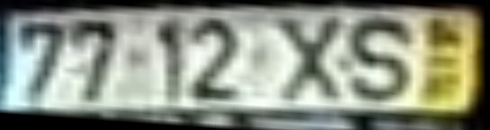1: (150, 17, 188, 106)
2: (189, 20, 249, 109)
7: (72, 19, 126, 108), (18, 23, 75, 107)
S: (346, 16, 419, 107)
X: (277, 15, 350, 106)
